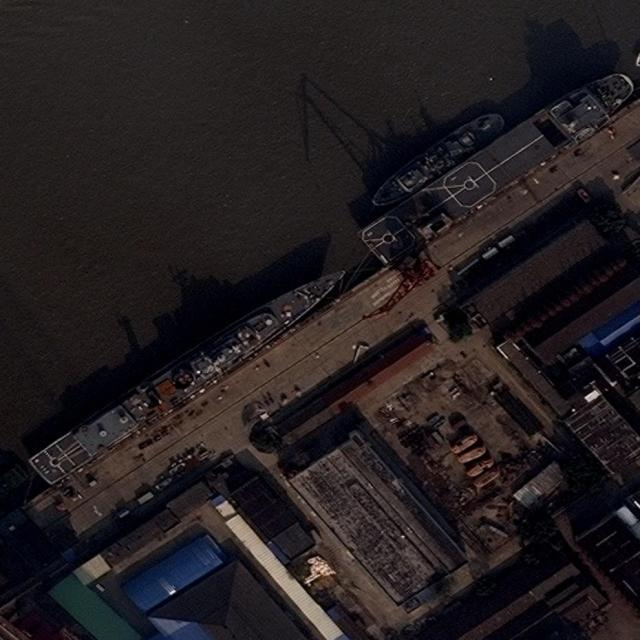Auxiliary Ships: (363, 61, 639, 270)
Destroyer: (28, 257, 352, 488)
Other Warship: (364, 103, 511, 217)
